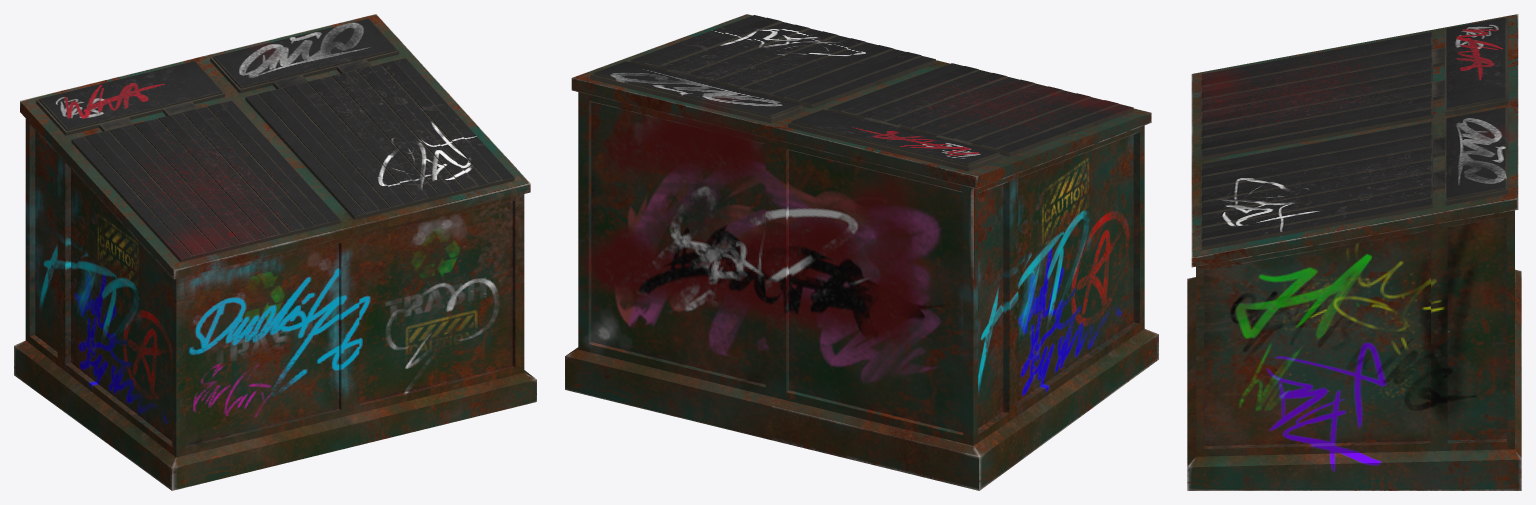
File: dumpster.glb
The picture shows the model from 3 angles, left to right: view 1: azimuth 30°, elevation 25°; view 2: azimuth 150°, elevation 25°; view 3: azimuth 270°, elevation 25°; orthographic projection. The views are drawn at different scales.
Parts seen in each view (by area): view 1: dumpster, klapy, Cube.002; view 2: dumpster, klapy, Cube.002; view 3: dumpster, klapy, Cube.002.
Boxes of the visible parts, x1=… form: dumpster: x1=14, y1=14, x2=536, y2=490; klapy: x1=71, y1=58, x2=514, y2=262; Cube.002: x1=36, y1=18, x2=399, y2=135; dumpster: x1=565, y1=14, x2=1158, y2=490; klapy: x1=630, y1=15, x2=1133, y2=156; Cube.002: x1=590, y1=61, x2=1002, y2=171; dumpster: x1=1187, y1=14, x2=1521, y2=490; klapy: x1=1201, y1=32, x2=1432, y2=250; Cube.002: x1=1432, y1=17, x2=1508, y2=205.
Bounding box in the file's own units: 2.1 × 1.53 × 1.57.
Materials: 1 (1 with a texture image).
